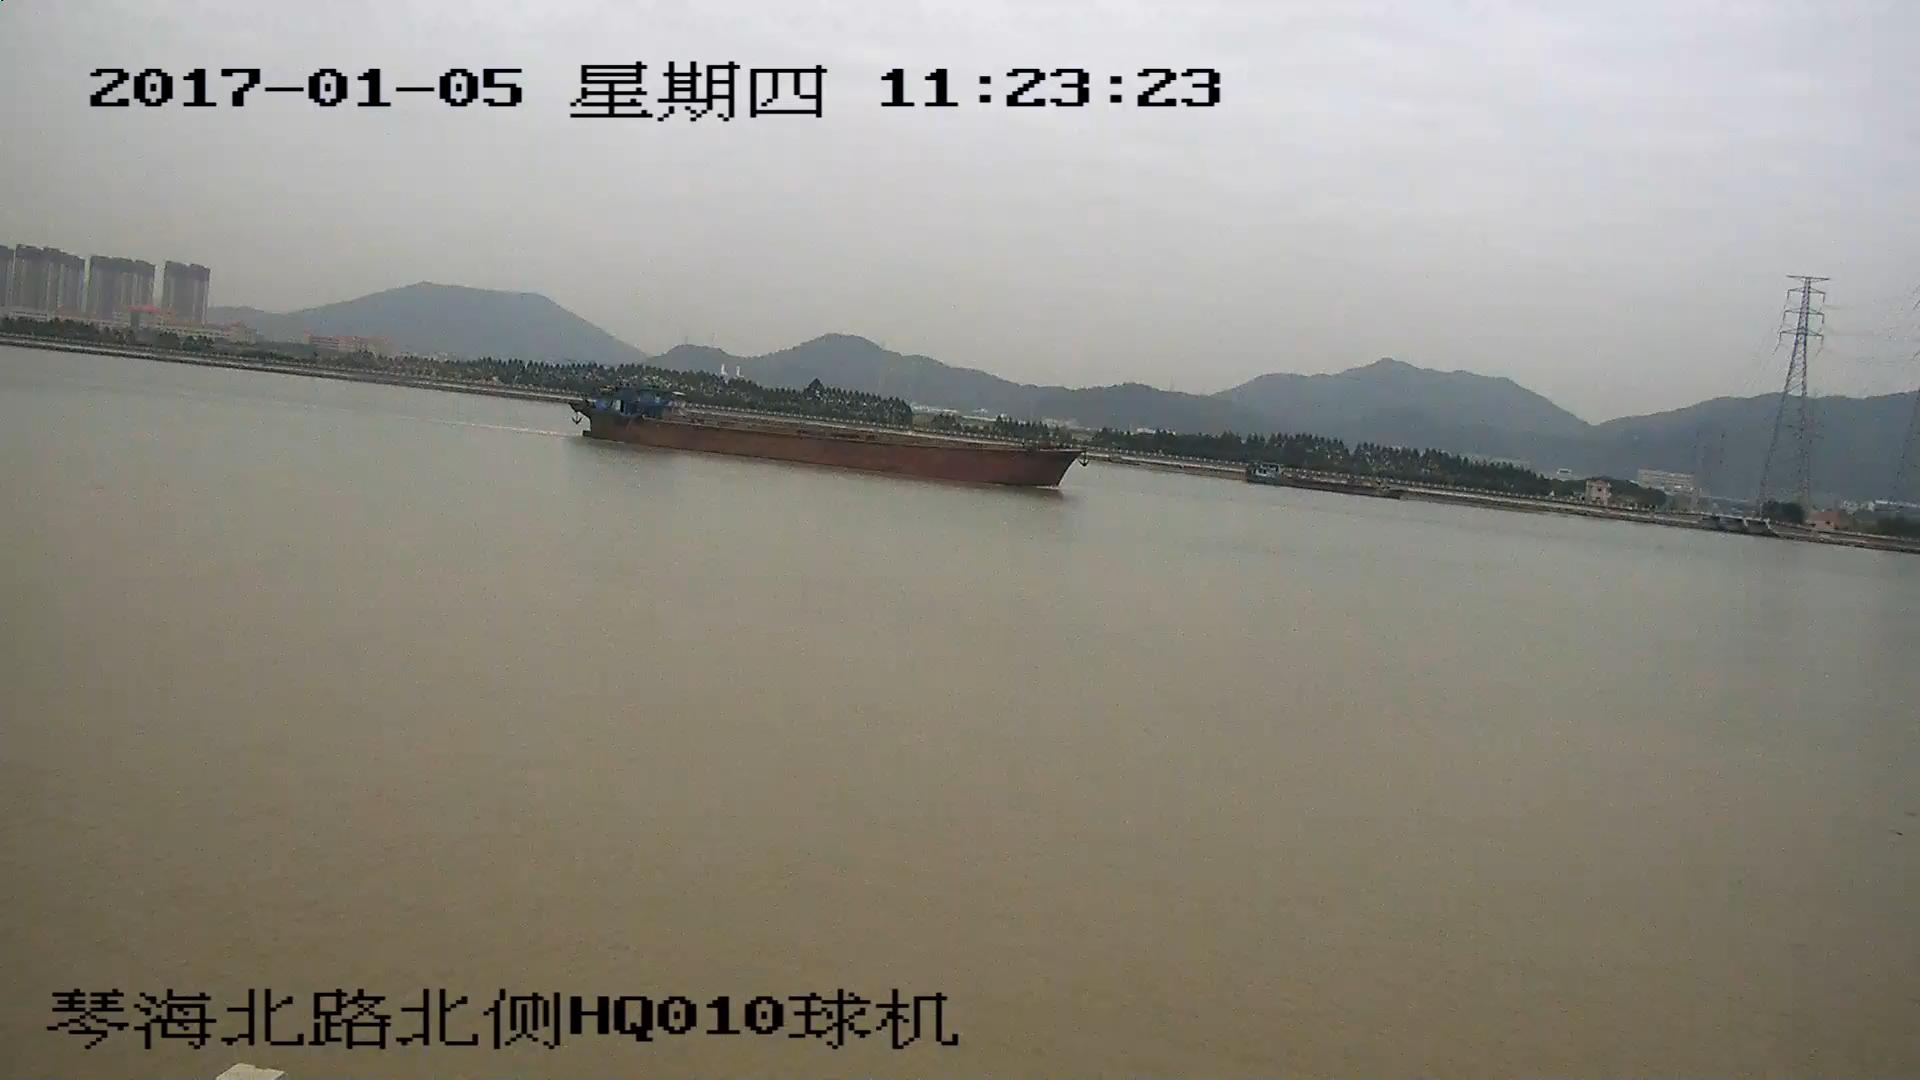bulk cargo carrier: (567, 363, 1084, 485)
